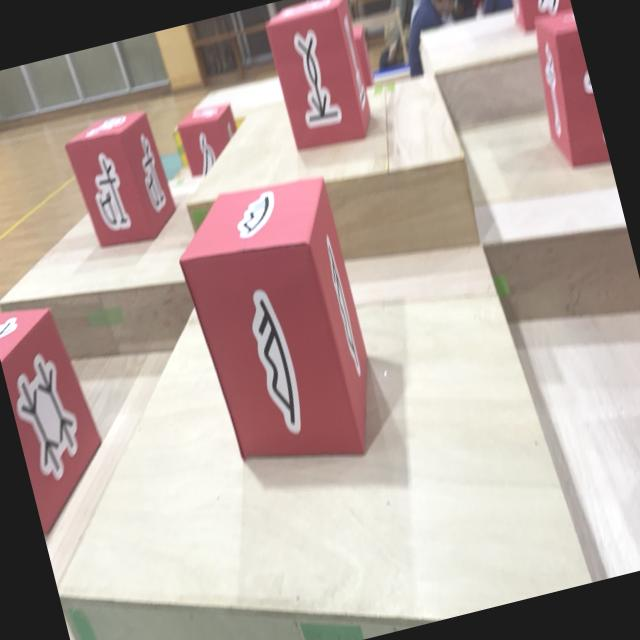10: (192, 130, 220, 177)
11: (242, 284, 310, 438), (320, 233, 364, 377), (230, 189, 282, 241)
3: (521, 0, 572, 16)
5: (84, 148, 133, 234), (132, 130, 170, 213)
6: (4, 346, 89, 486), (0, 312, 21, 343)
7: (283, 26, 343, 130), (338, 12, 370, 110)
9: (534, 42, 572, 138)
fighter: (165, 168, 390, 487), (0, 292, 120, 534), (262, 0, 380, 153), (60, 106, 181, 254), (521, 4, 610, 174), (174, 100, 245, 180), (496, 0, 573, 32)
